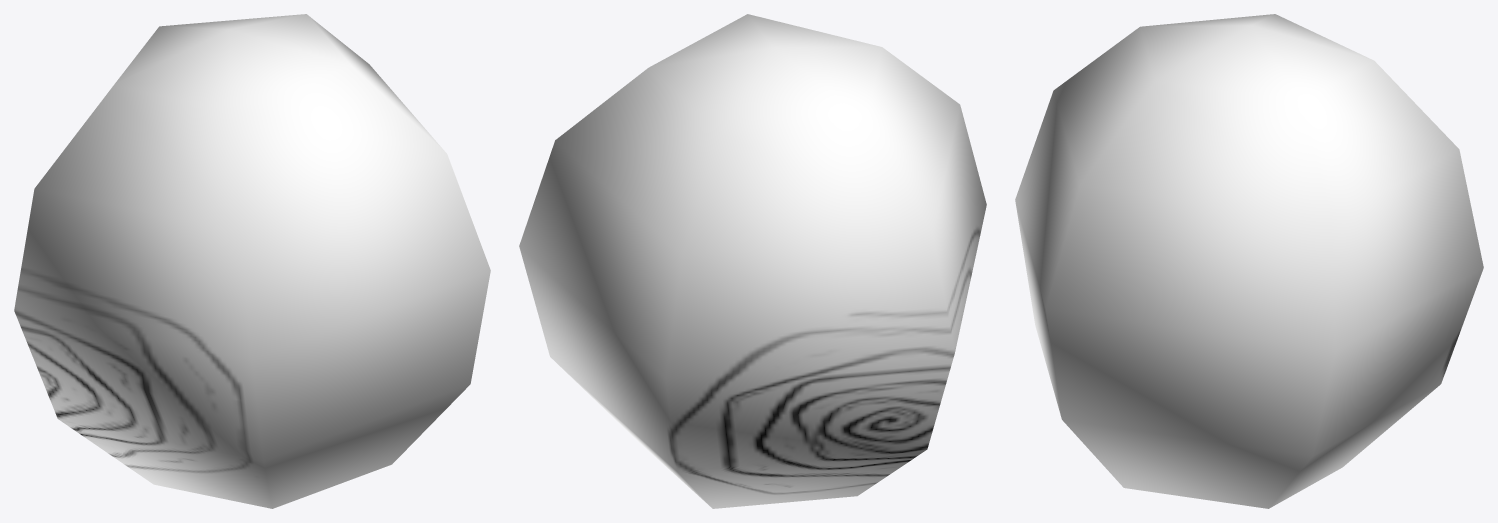
The model's file is seinecourt1.glb.
3 views of the same model, side by side, from view 1: azimuth 30°, elevation 25°; view 2: azimuth 150°, elevation 25°; view 3: azimuth 270°, elevation 25° (orthographic).
Parts seen in each view (by area): view 1: sky; view 2: sky; view 3: sky.
Part boxes in pixels (x1,y1,x2,y2): sky: (14, 14, 490, 508); sky: (519, 14, 986, 508); sky: (1015, 14, 1483, 508).
Size of the model in its own units: 698 by 735 by 686.
Materials: 1425 (1390 with a texture image).
